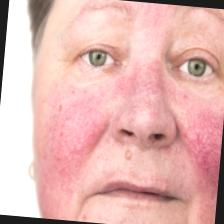Sensitif: (38, 0, 224, 224)
